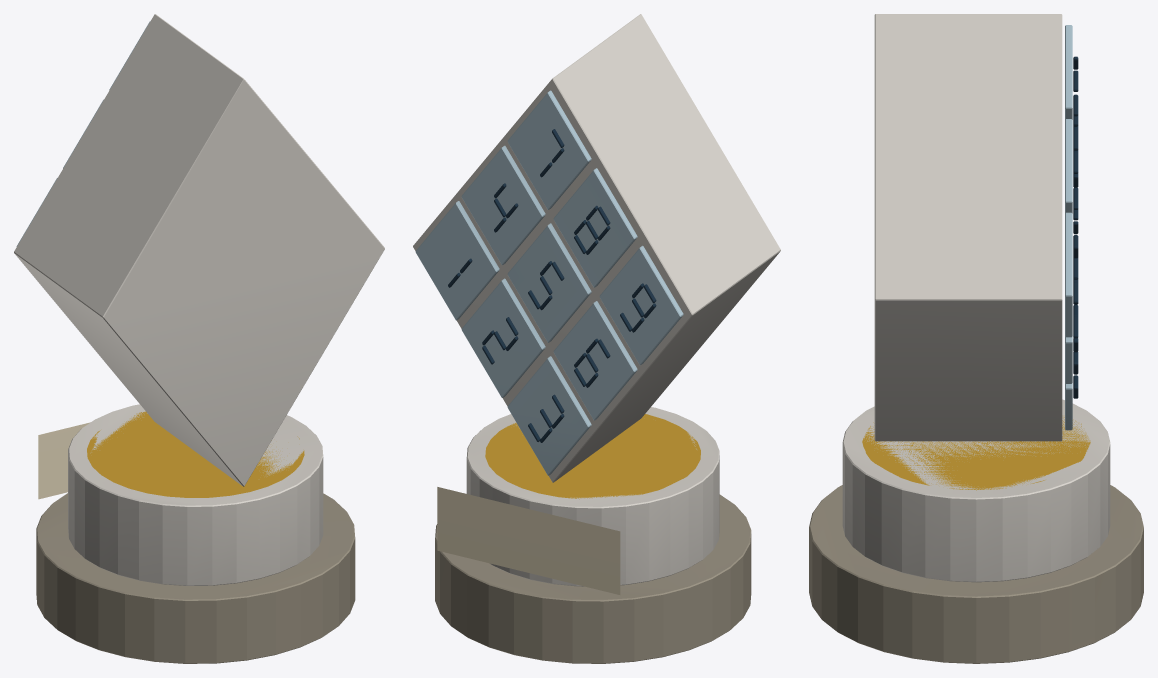
File: trophy_sudoku.glb
The picture shows the model from 3 angles, left to right: view 1: azimuth 30°, elevation 25°; view 2: azimuth 150°, elevation 25°; view 3: azimuth 270°, elevation 25°; orthographic projection. The views are drawn at different scales.
Visible parts, largest first — view 1: symbol, common_pedestal, trophy_plate; view 2: symbol, common_pedestal, trophy_plate; view 3: symbol, common_pedestal.
Part boxes in pixels (bbox=[...]): symbol: bbox=[14, 14, 384, 486]; common_pedestal: bbox=[36, 404, 355, 663]; trophy_plate: bbox=[38, 422, 90, 499]; symbol: bbox=[413, 14, 780, 482]; common_pedestal: bbox=[435, 407, 751, 663]; trophy_plate: bbox=[437, 487, 620, 594]; symbol: bbox=[874, 14, 1078, 441]; common_pedestal: bbox=[809, 399, 1143, 663].
Bounding box in the file's own units: 0.9171 × 1.72 × 0.9.
